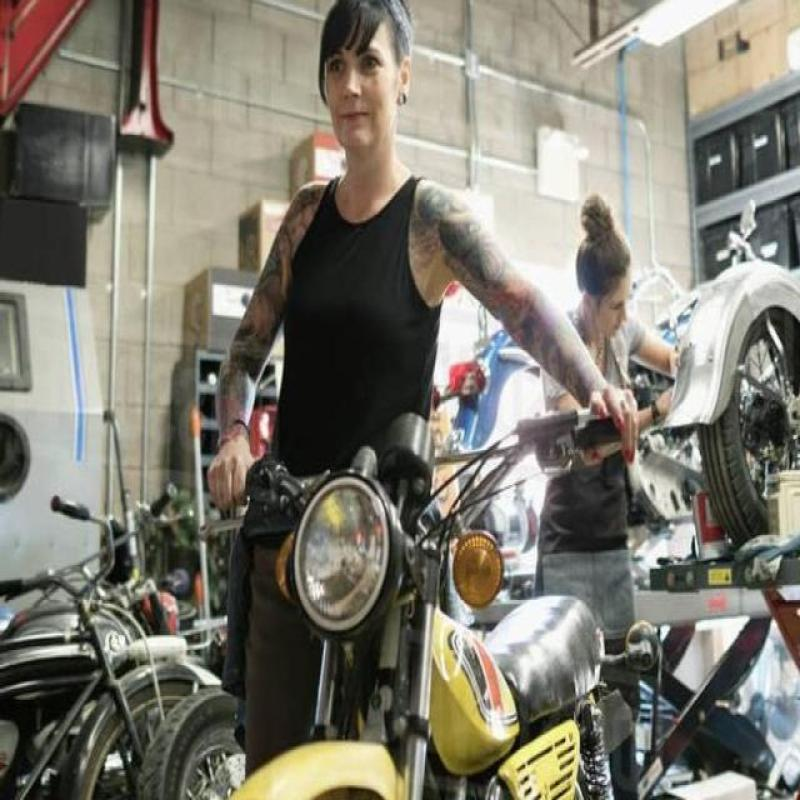nohelmet: (312, 0, 420, 178)
